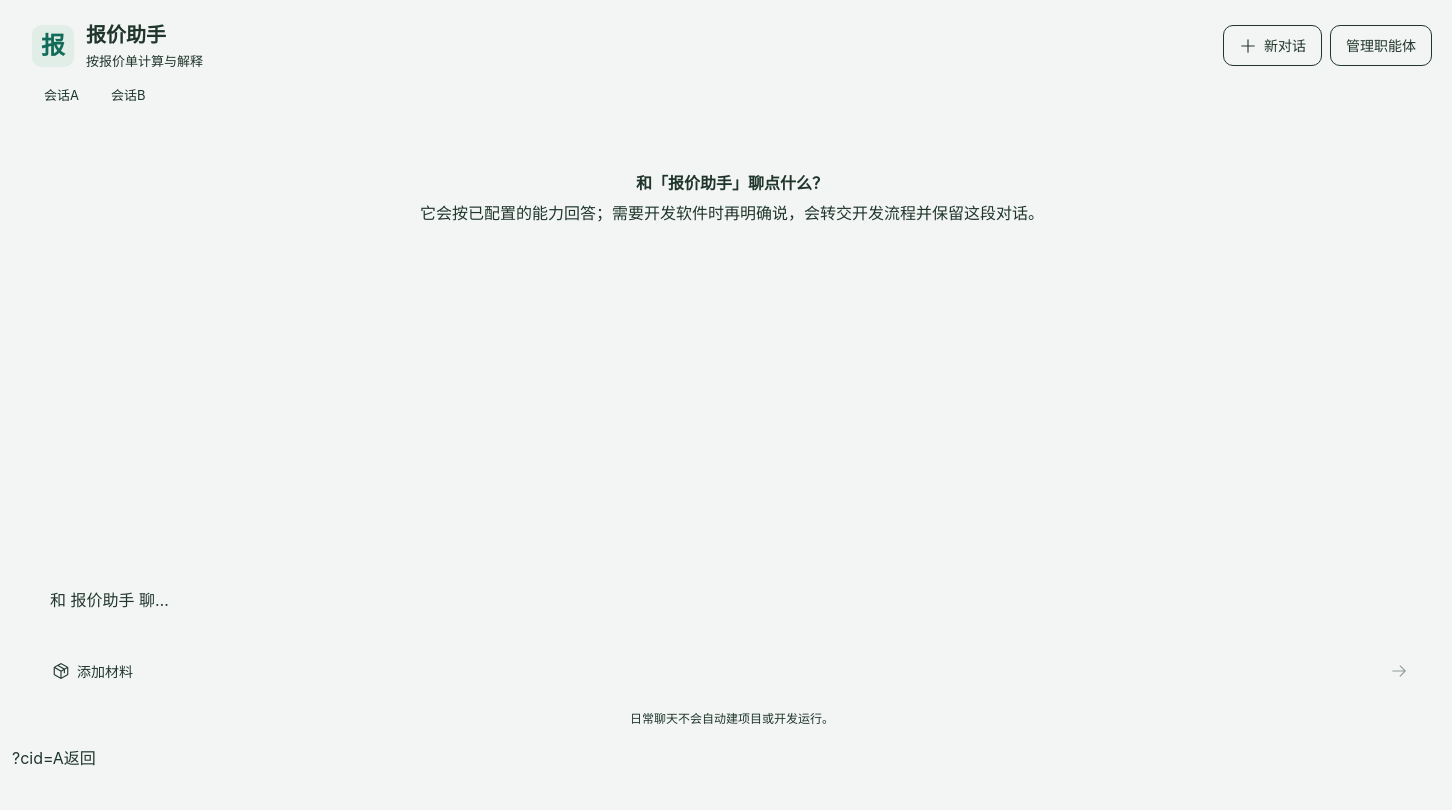
Test: a late response for the previous conversation does not overwrite the newly selected one
Click the button "会话B".
click(128, 95)  # box [99,80,158,111]
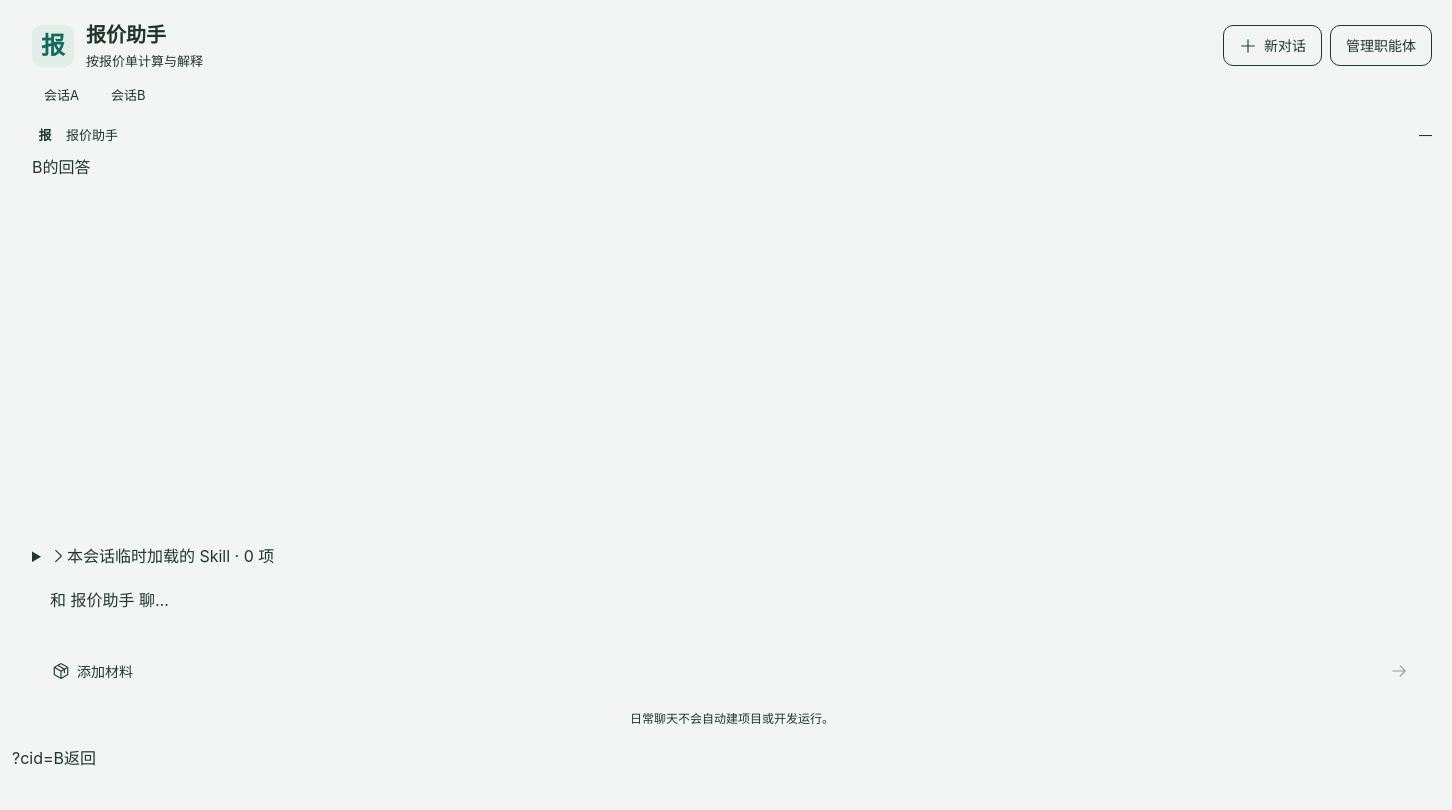
Result: the text "B的回答" is shown at [32,157,90,177]
